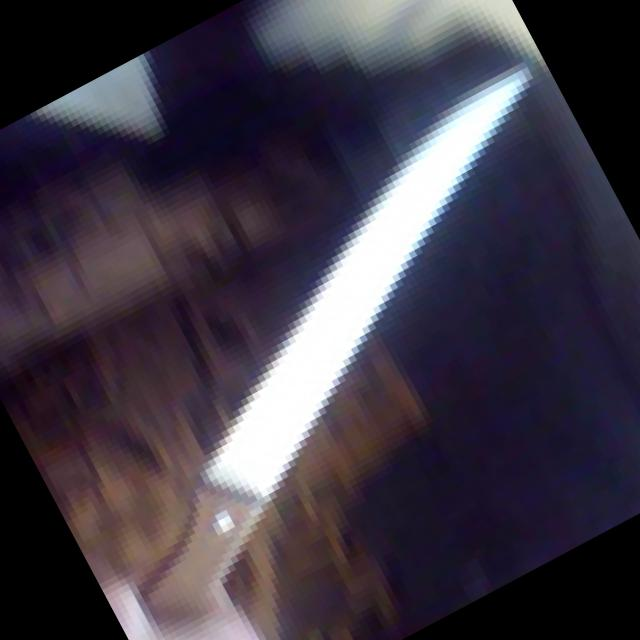knife: (5, 43, 640, 636)
